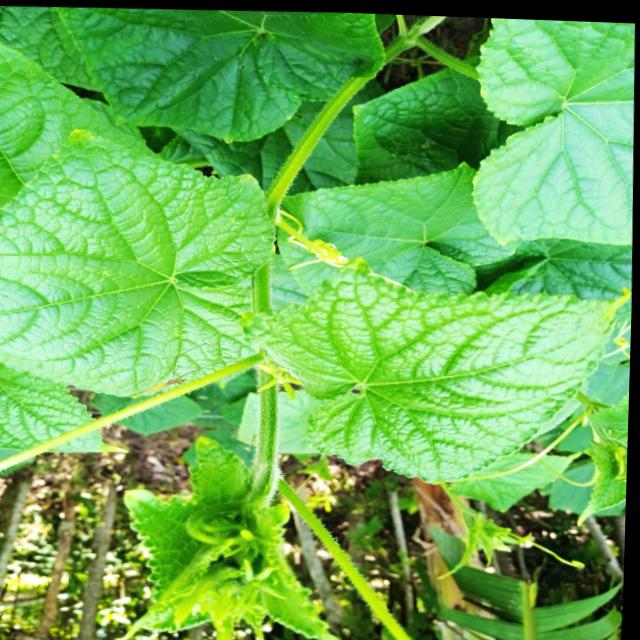Fresh-Leaf: (241, 256, 631, 482), (0, 126, 277, 398), (469, 18, 632, 246)
